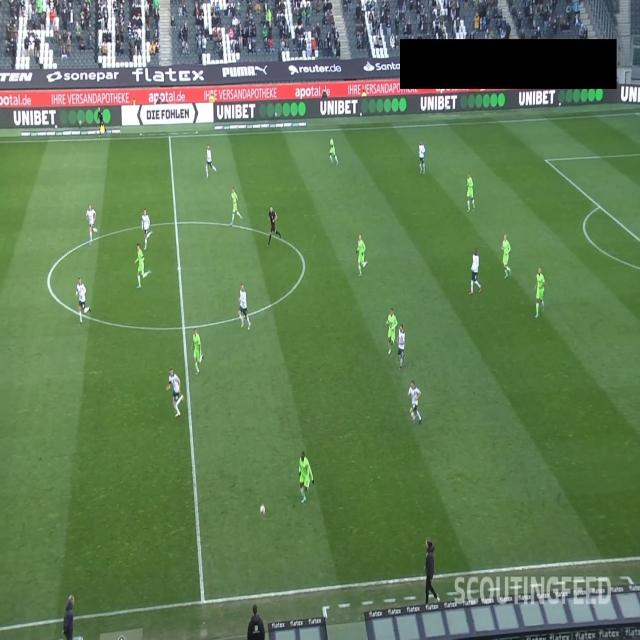ball: (259, 503, 267, 517)
